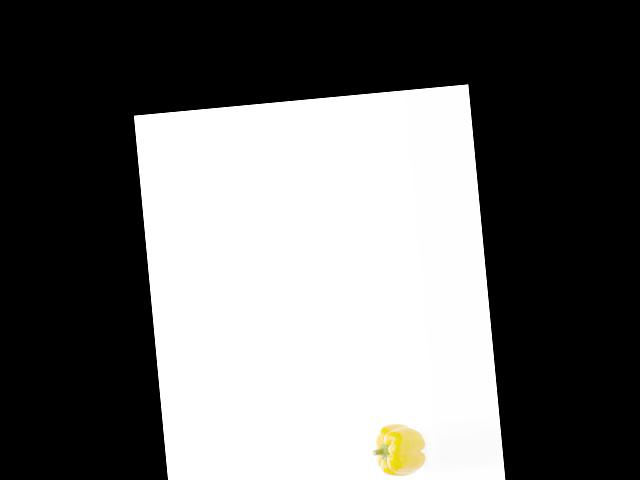bell_pepper: (368, 417, 428, 478)
